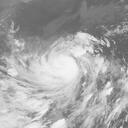cyclone: (23, 39, 85, 92)
